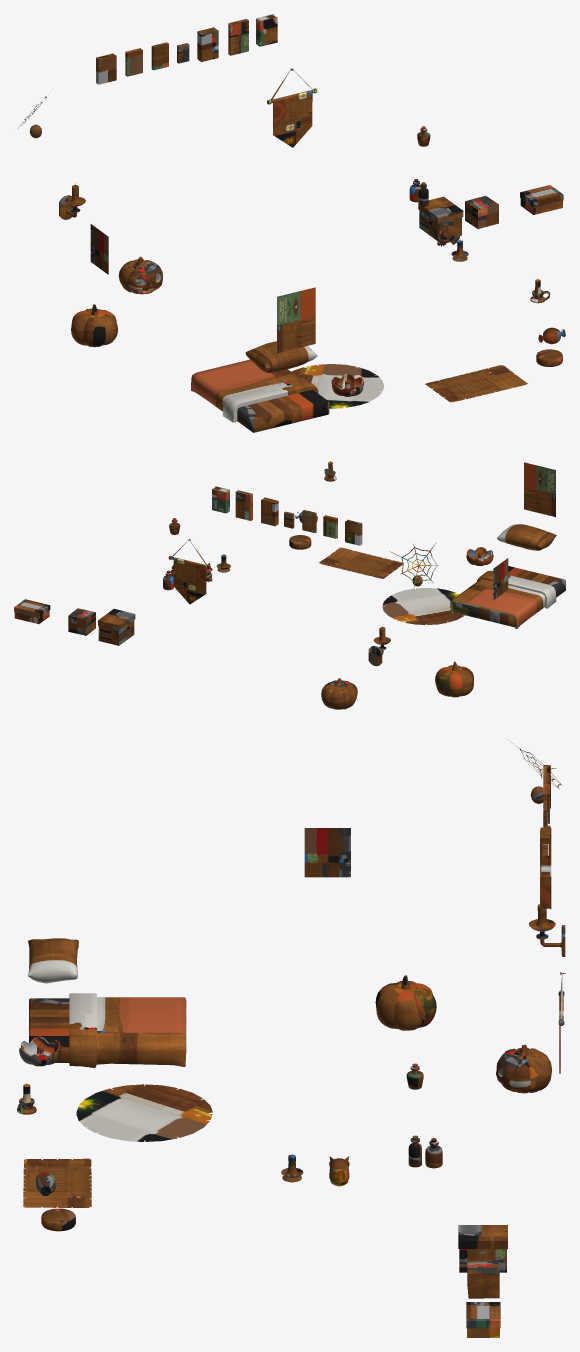
File: Bedroom_Furniture_Set1.fbx
3 views of the same model, one above another, from view 1: azimuth 30°, elevation 25°; view 2: azimuth 150°, elevation 25°; view 3: azimuth 270°, elevation 25° (orthographic). The views are drawn at different scales.
Visible parts, largest first — view 1: Bedroom_Bed_Sheet, Picture_Hang.001, Bedroom_Matt, Bedroom_Matt_2, Banner_Hang, Sphere, Bedroom_Bed_Pillow, pumpkin_0, Paper_Box_1, Paper_Box_3, Paper_Box_2, Picture_Hang_2.001 (+6 smaller); view 2: Bedroom_Bed_Sheet, Bedroom_Matt, Picture_Hang.001, Bedroom_Matt_2, Banner_Hang, Paper_Box_1, Bedroom_Bed_Pillow, Sphere, pumpkin_0, Paper_Box_3, Paper_Box_2, Picture_Hang_2.001 (+8 smaller); view 3: Bedroom_Bed_Sheet, Bedroom_Matt, Bedroom_Matt_2, Sphere, Picture_Hang_2.001, pumpkin_0, Bedroom_Bed_Pillow, Paper_Box_1, Paper_Box_2, Paper_Box_3, Sphere.001.
Boxes of the visible parts, x1,y1,x2,y2 form: Bedroom_Bed_Sheet: (191,359,329,432); Picture_Hang.001: (277,287,315,353); Bedroom_Matt: (291,364,384,408); Bedroom_Matt_2: (425,365,527,402); Banner_Hang: (267,68,317,147); Sphere: (71,304,117,347); Bedroom_Bed_Pillow: (245,341,317,372); pumpkin_0: (118,256,162,294); Paper_Box_1: (418,196,463,240); Paper_Box_3: (520,185,563,214); Paper_Box_2: (465,196,498,228); Picture_Hang_2.001: (90,224,108,274); Bedroom_Bed_Sheet: (450,566,565,628); Bedroom_Matt: (382,588,464,624); Picture_Hang.001: (524,462,555,516); Bedroom_Matt_2: (319,547,403,578); Banner_Hang: (168,539,210,604); Paper_Box_1: (98,608,135,645); Bedroom_Bed_Pillow: (497,524,556,550); Sphere: (435,661,473,697); pumpkin_0: (321,678,357,709); Paper_Box_3: (14,599,50,624); Paper_Box_2: (68,608,95,635); Picture_Hang_2.001: (493,558,508,600); Bedroom_Bed_Sheet: (29,993,186,1067); Bedroom_Matt: (76,1084,212,1141); Bedroom_Matt_2: (23,1158,91,1207); Sphere: (375,975,436,1030); Picture_Hang_2.001: (304,828,350,877); pumpkin_0: (496,1044,551,1093); Bedroom_Bed_Pillow: (27,938,78,983); Paper_Box_1: (458,1225,507,1272); Paper_Box_2: (467,1260,499,1298); Paper_Box_3: (466,1302,500,1337); Sphere.001: (19,1036,61,1066).
Size of the model in its own units: 774 by 336 by 552.
